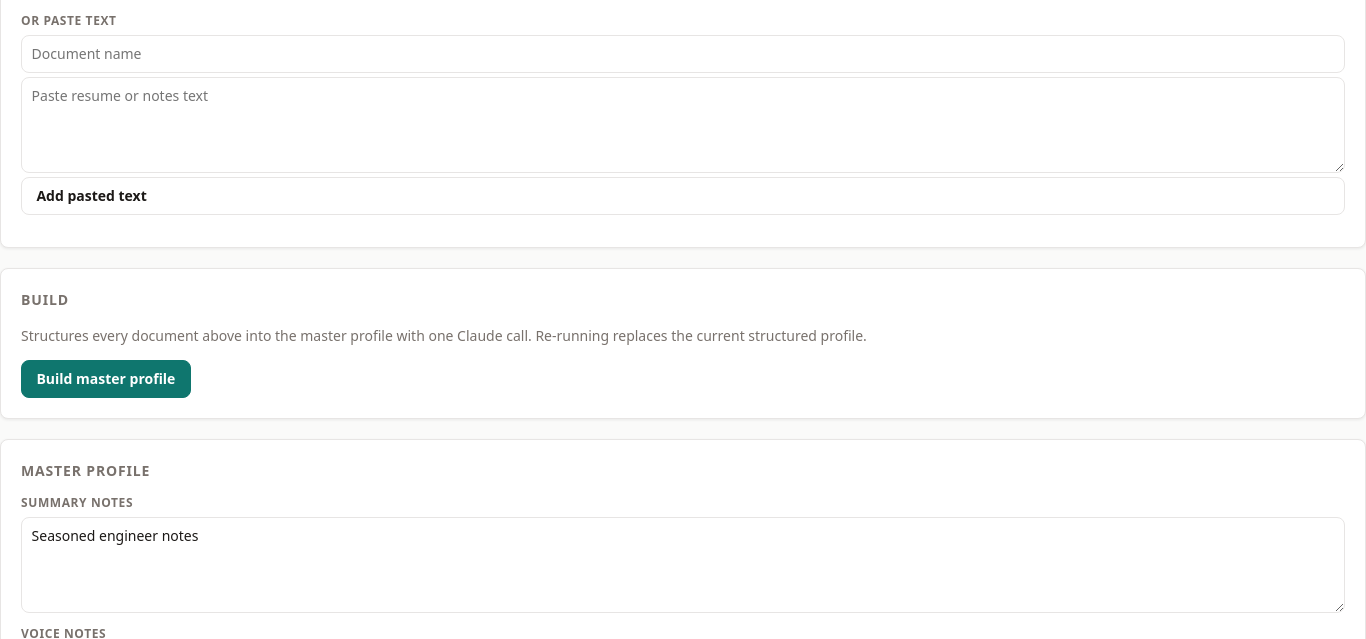
Test: ProfileScreen › a Build that fills an empty email shows it in the Email box
(page scrolled)
Click the button "Build master profile".
click(106, 379)  # box x1=21 y1=360 x2=191 y2=398
(page scrolled)
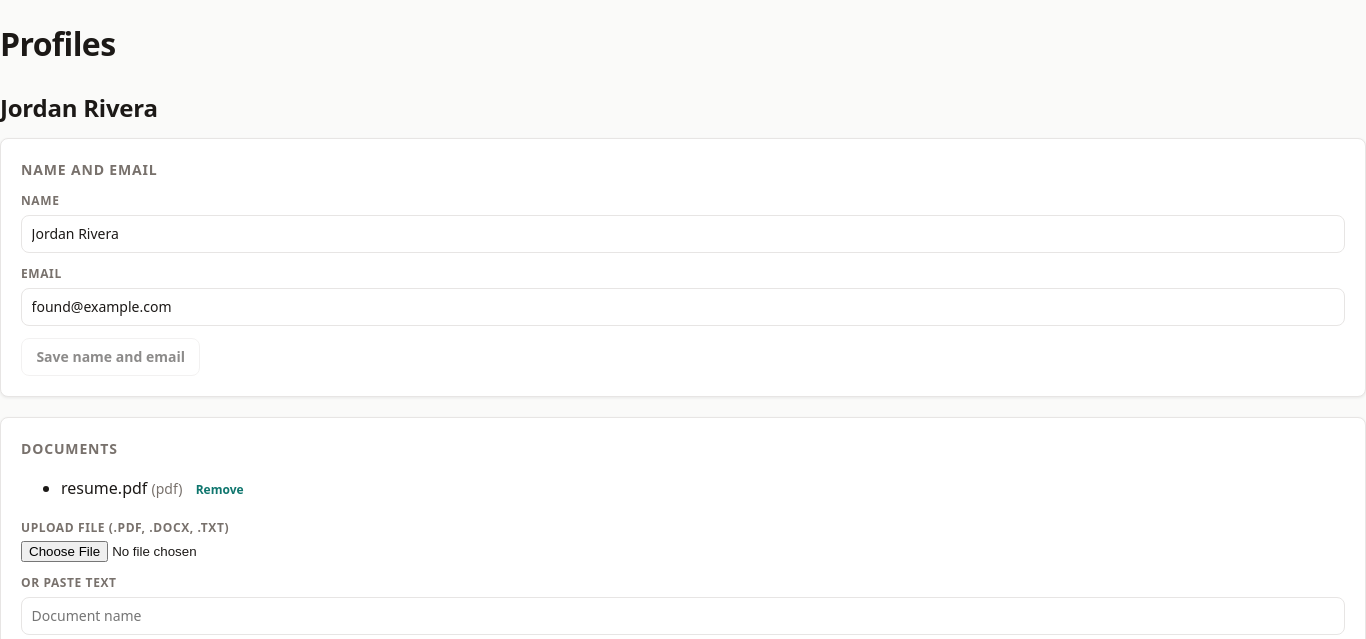
Expected: the button "Save name and email" is disabled, x1=21 y1=338 x2=200 y2=376
Expected: the field labelled "Email" holds "found@example.com", x1=21 y1=288 x2=1345 y2=326
